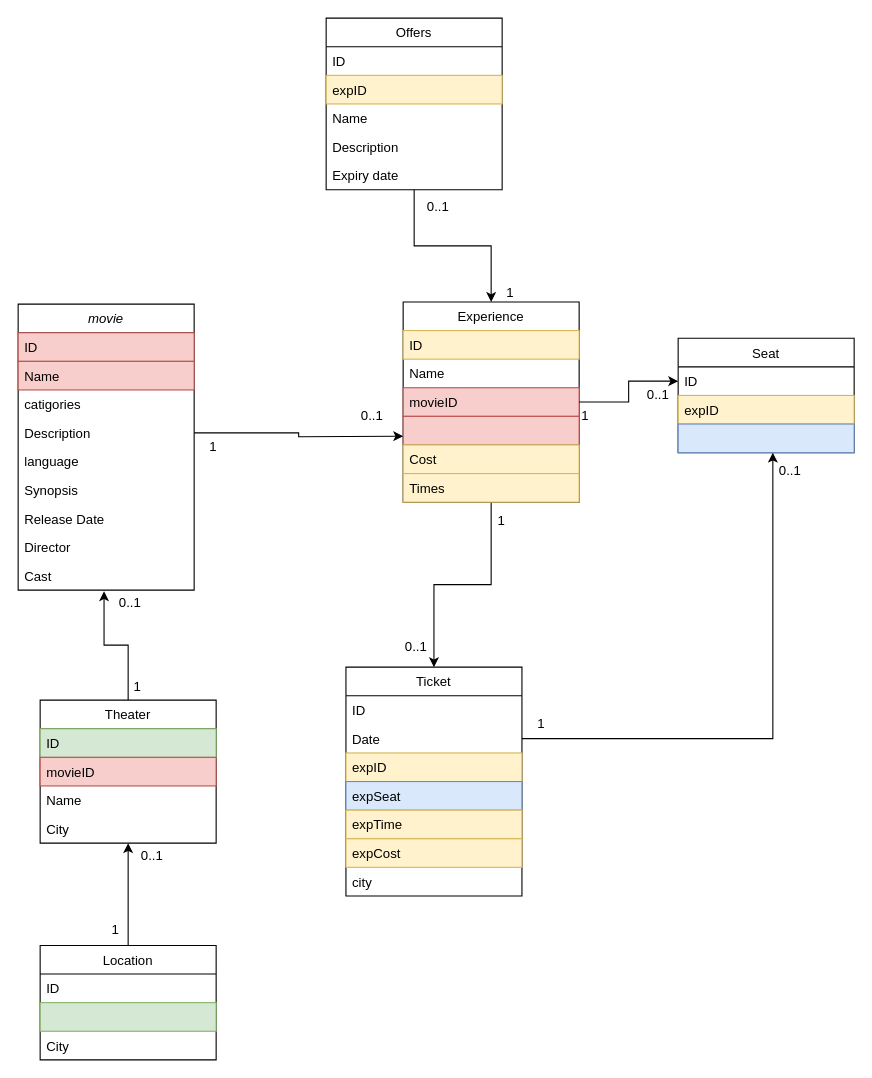
The diagram is 872 pixels wide and 1078 high, and some of its shapes have lost their labels. Here are the shapes that lost their labels. From the top down, the centre of each, then its label:
the point at 490,430: movieName
the point at 765,438: Seat Number
the point at 127,1016: theaterID
